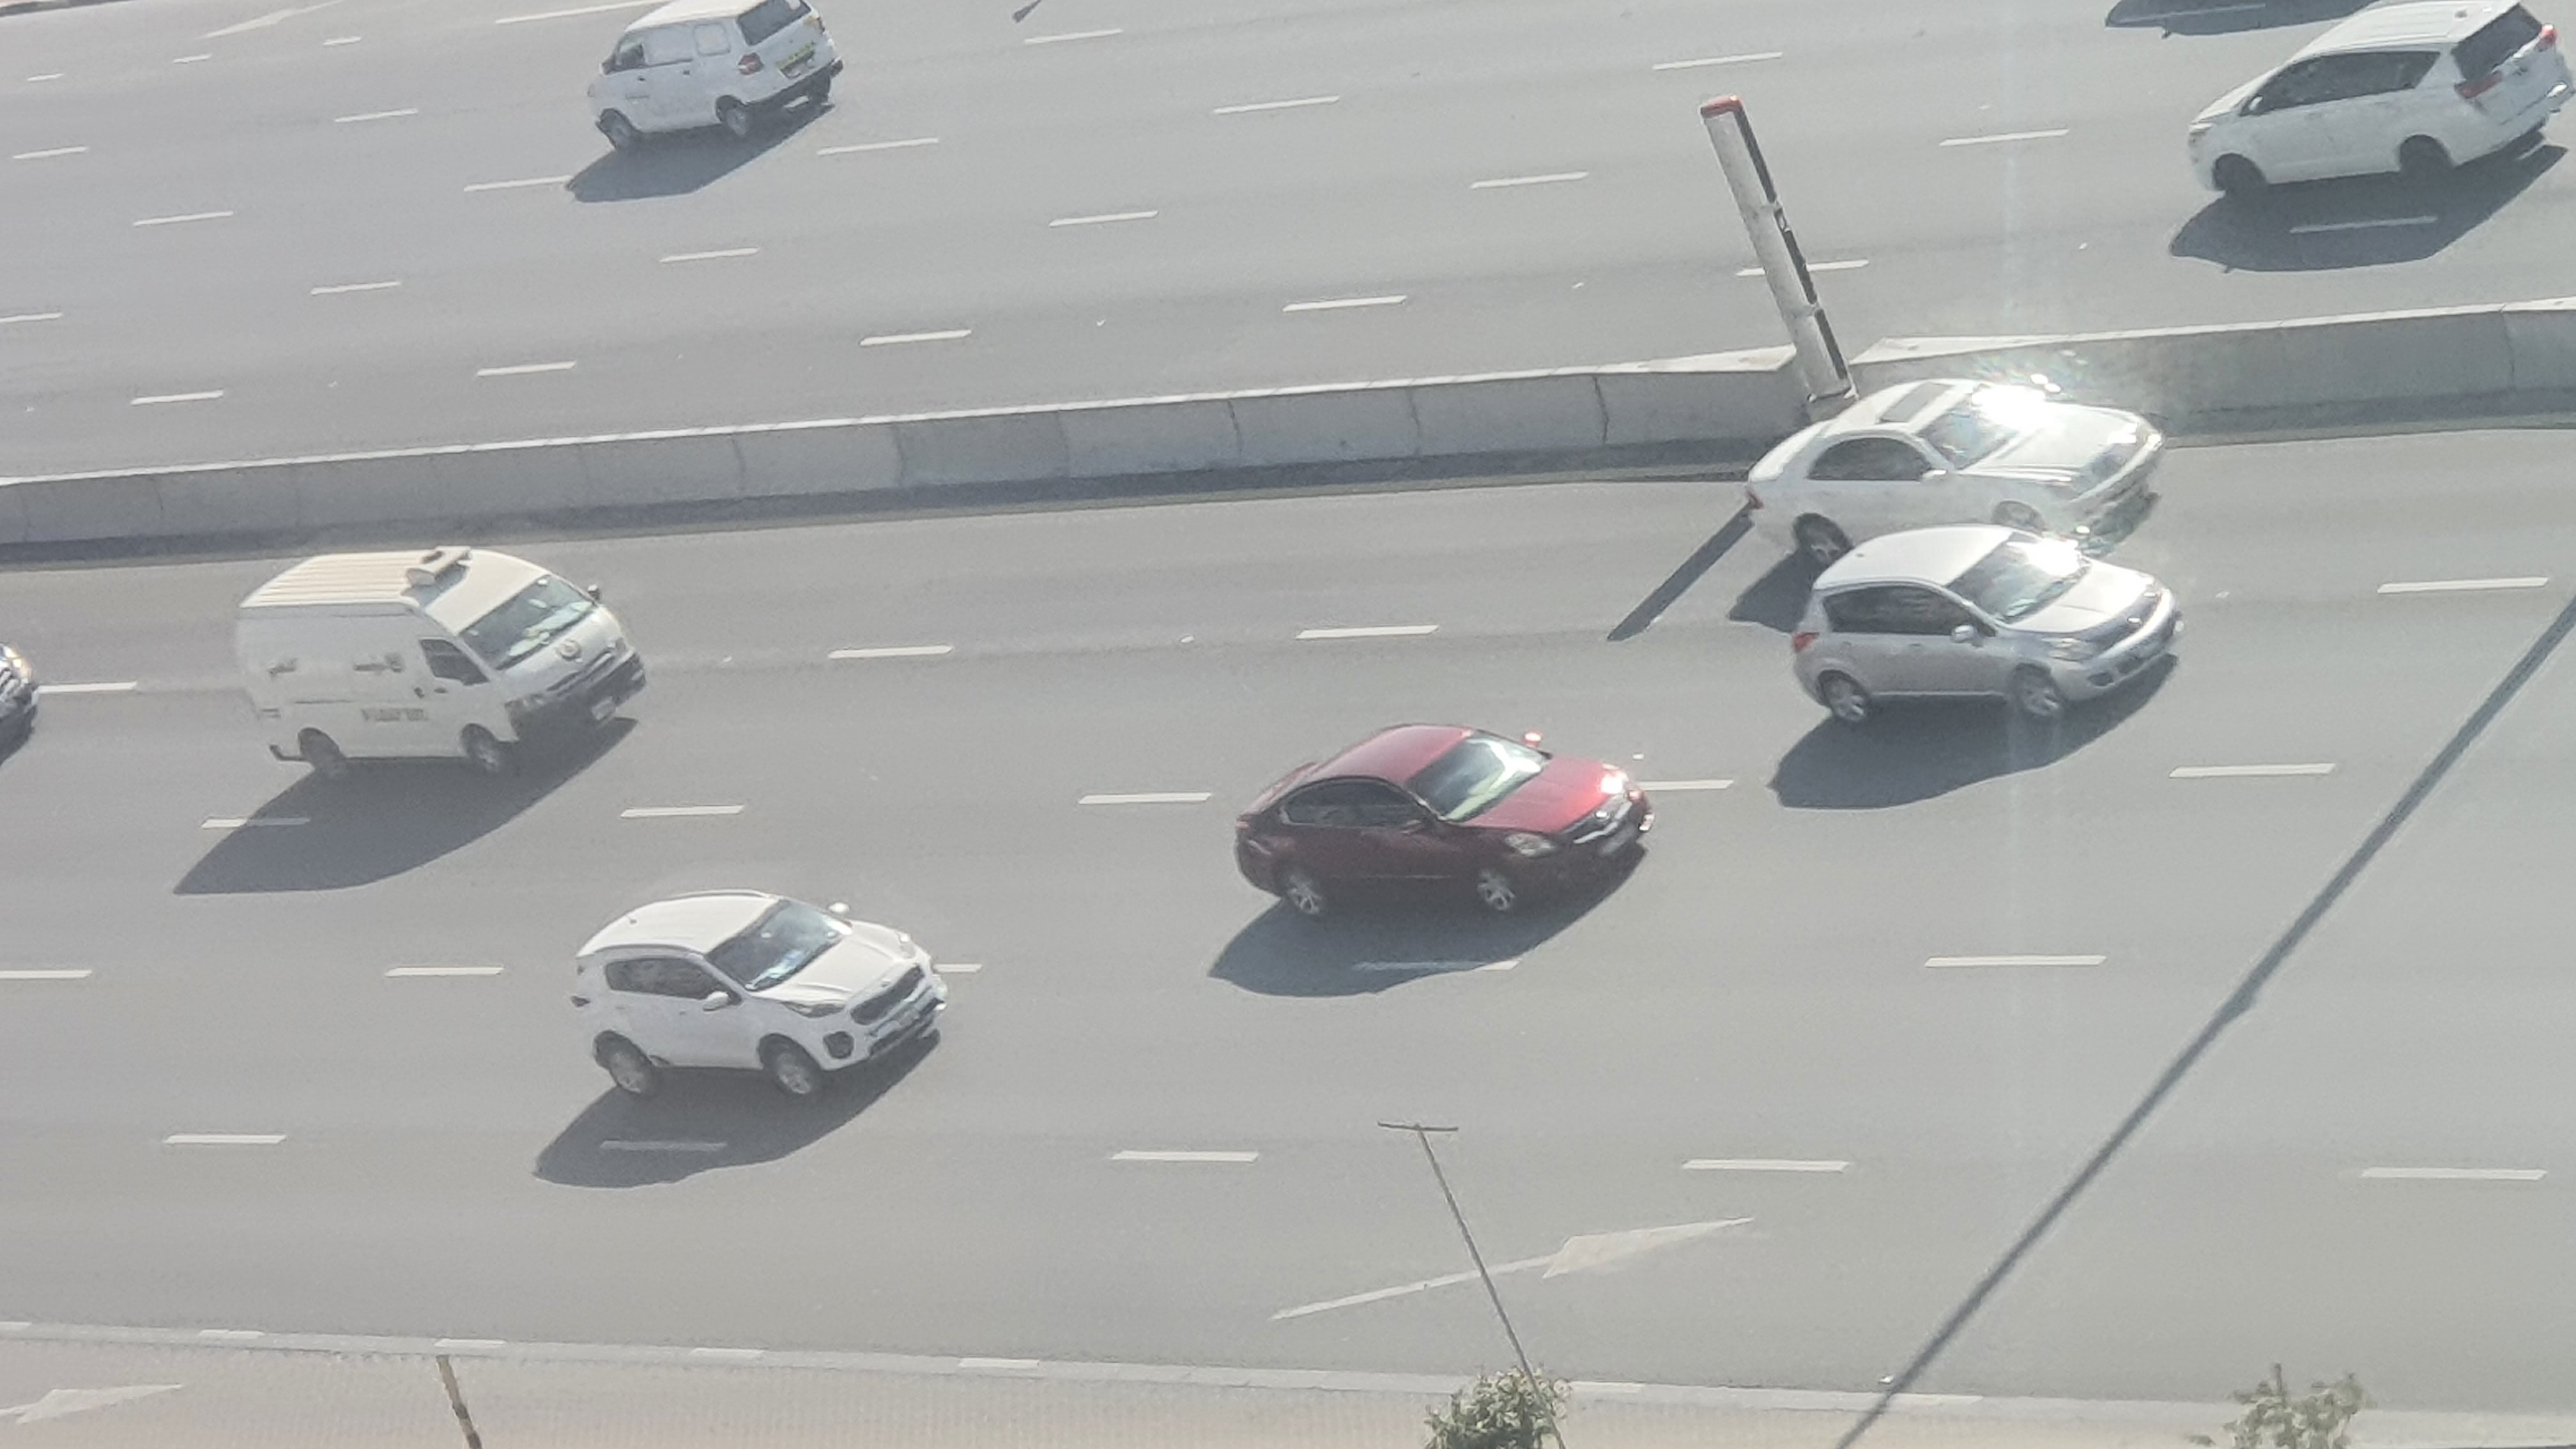NotSunroof: (1226, 722, 1658, 920), (1766, 529, 2183, 715), (573, 890, 945, 1095)
Sunroof: (1737, 380, 2164, 540)
